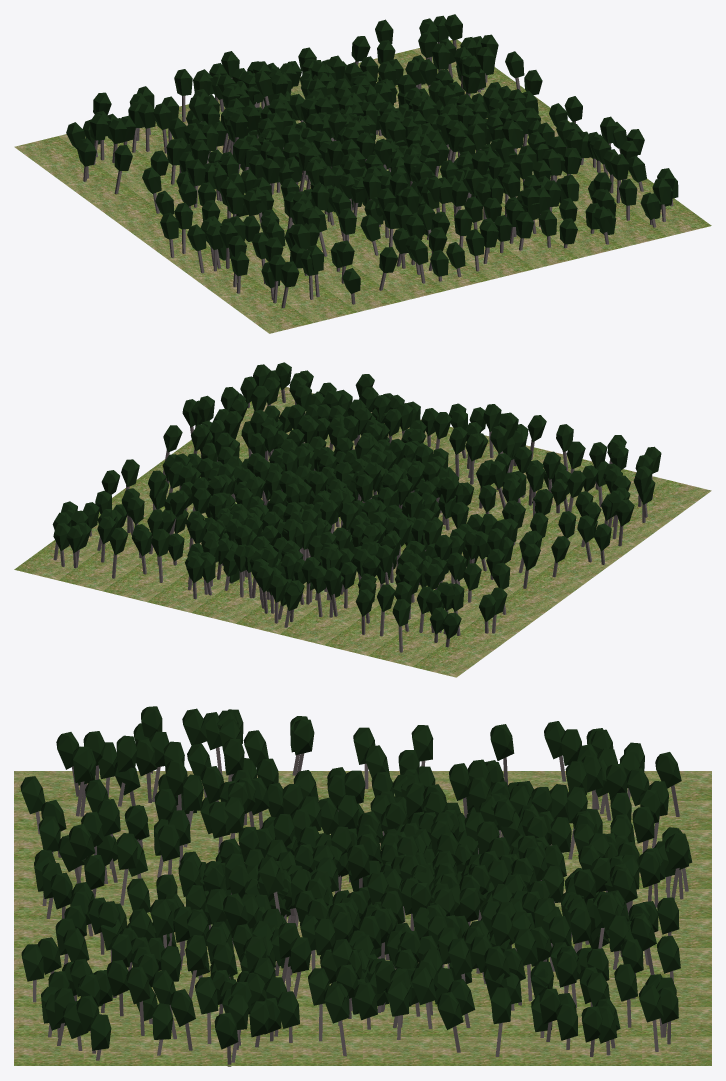
File: Forest_complex.obj
3 views of the same model, one above another, from view 1: azimuth 30°, elevation 25°; view 2: azimuth 150°, elevation 25°; view 3: azimuth 270°, elevation 25° (orthographic). The views are drawn at different scales.
Visible parts, largest first — view 1: Cube.511_Cube.512, Plane; view 2: Cube.511_Cube.512, Plane; view 3: Cube.511_Cube.512, Plane.
Part boxes in pixels (box(x1,y1,x2,y2)): Cube.511_Cube.512: box(66, 14, 678, 308); Plane: box(14, 39, 711, 333); Cube.511_Cube.512: box(52, 362, 661, 652); Plane: box(14, 387, 711, 677); Cube.511_Cube.512: box(20, 706, 692, 1066); Plane: box(14, 771, 711, 1065).
Bounding box in the file's own units: 2.05 × 0.2832 × 2.
